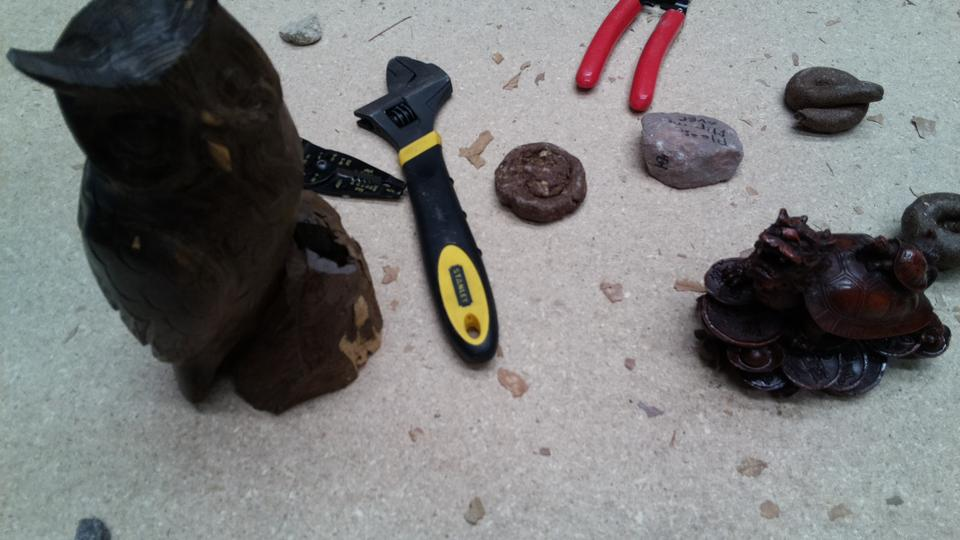poop: (491, 140, 594, 230), (781, 65, 887, 138), (897, 187, 960, 280)
